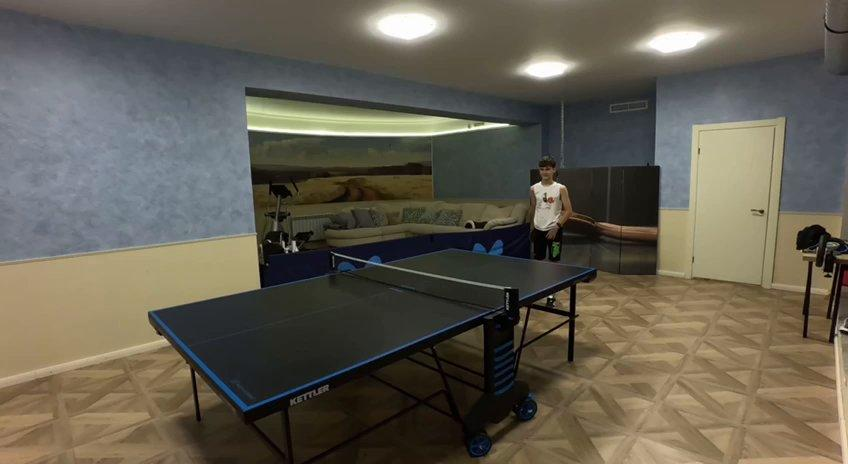Net: (327, 251, 515, 308)
Player1: (530, 158, 571, 260)
Table: (149, 247, 594, 409)
